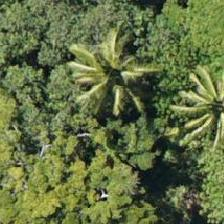coconut_tree: (61, 23, 151, 113)
